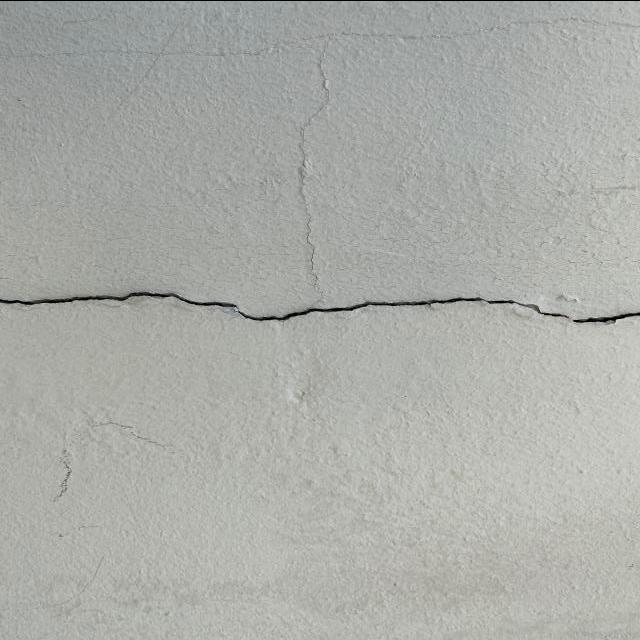SurfaceCrack: (1, 239, 640, 374)
